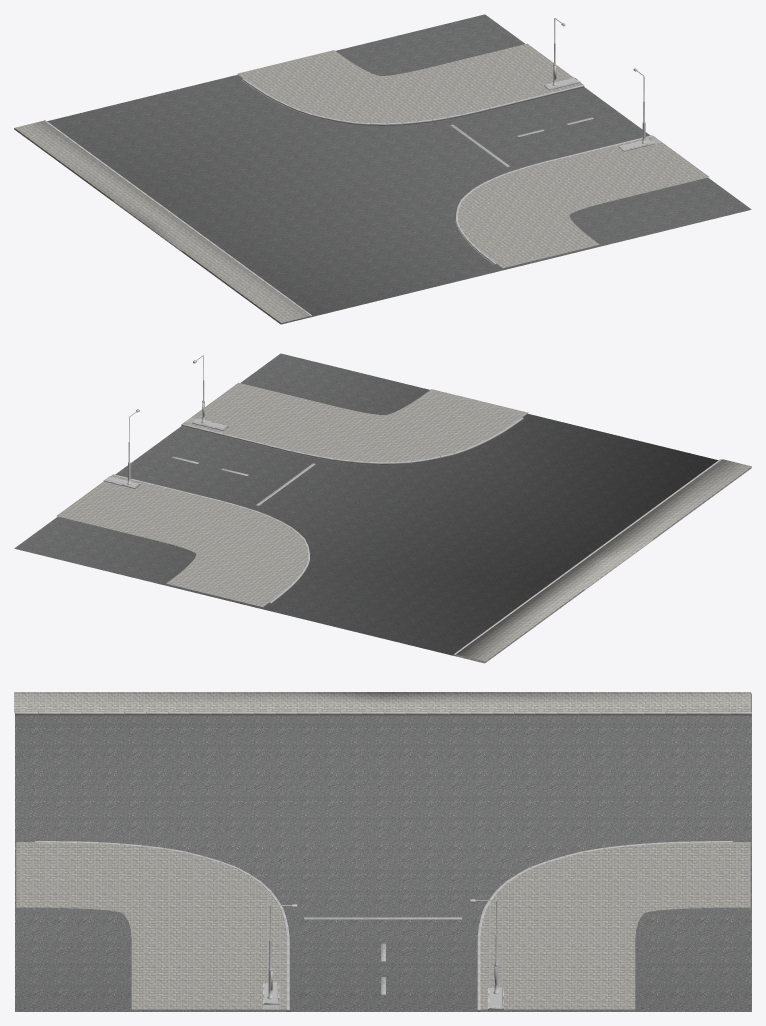
File: RoadCurve.fbx
3 renders of one model, top to bottom at view 1: azimuth 30°, elevation 25°; view 2: azimuth 150°, elevation 25°; view 3: azimuth 270°, elevation 25°, orthographic. The views are drawn at different scales.
Parts seen in each view (by area): view 1: RoadTurn; view 2: RoadTurn; view 3: RoadTurn, RoadMain.001.
Part boxes in pixels (x1=…): RoadTurn: x1=14, y1=14, x2=751, y2=324; RoadTurn: x1=14, y1=353, x2=751, y2=663; RoadTurn: x1=14, y1=692, x2=751, y2=1011; RoadMain.001: x1=304, y1=917, x2=461, y2=994.
Bounding box in the file's own units: 60.87 × 8.66 × 59.8.
